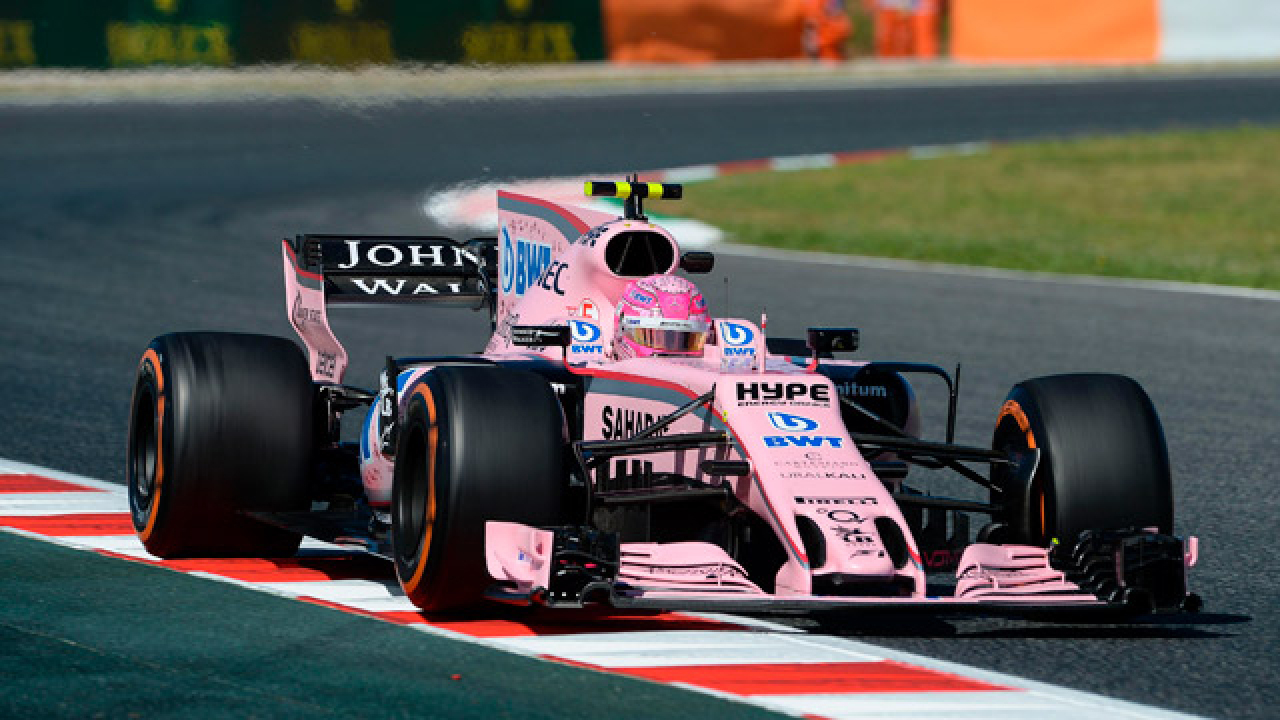F1 Car: (114, 168, 1218, 645)
